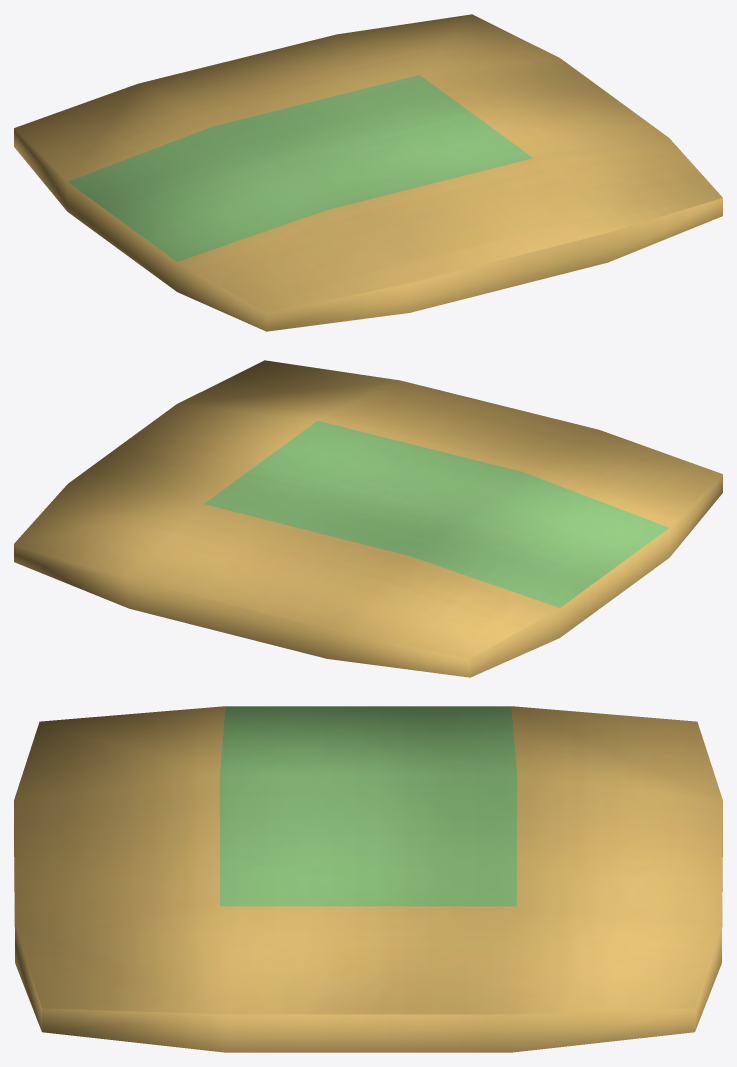
File: flower_a.glb
The picture shows the model from 3 angles, top to bottom: view 1: azimuth 30°, elevation 25°; view 2: azimuth 150°, elevation 25°; view 3: azimuth 270°, elevation 25°; orthographic projection. The views are drawn at different scales.
Visible parts, largest first — view 1: lod0; view 2: lod0; view 3: lod0.
Boxes of the visible parts, x1,y1,x2,y2 form: lod0: [14, 14, 722, 331]; lod0: [14, 360, 722, 677]; lod0: [14, 706, 722, 1052].
Bounding box in the file's own units: 0.134 × 0.0127 × 0.1282.
Materials: 1 (1 with a texture image).
